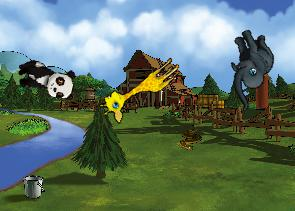elephant: (208, 23, 291, 111)
giraffe: (95, 47, 184, 127)
panda: (13, 57, 78, 102)
